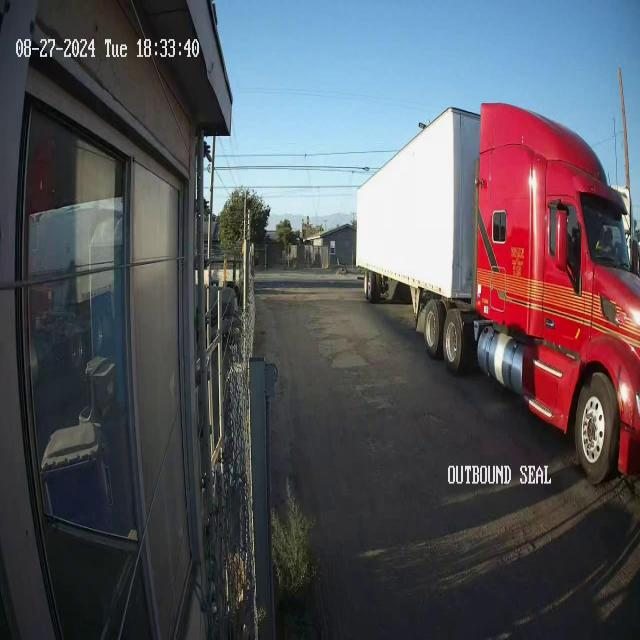TRUCK_CONTAINER: (355, 99, 639, 485)
